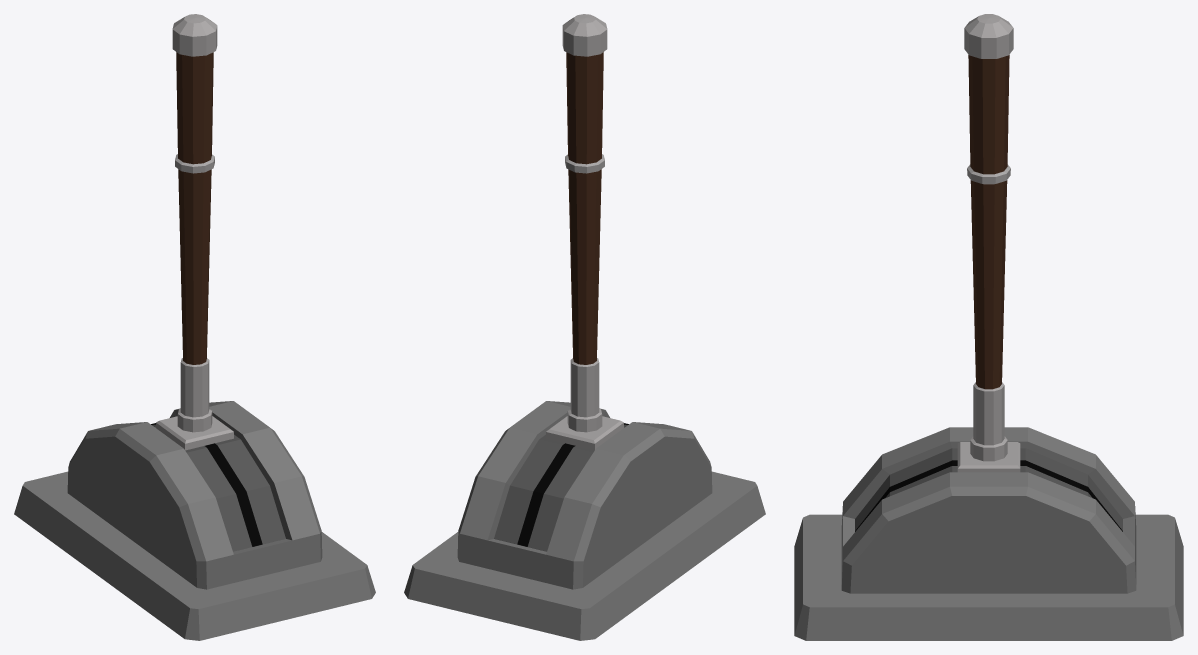
File: StoneFloorLever_3.fbx
3 views of the same model, side by side, from view 1: azimuth 30°, elevation 25°; view 2: azimuth 150°, elevation 25°; view 3: azimuth 270°, elevation 25° (orthographic). The views are drawn at different scales.
Visible parts, largest first — view 1: StoneFloorLever_3_Casing, StoneFloorLever_3_Handle; view 2: StoneFloorLever_3_Casing, StoneFloorLever_3_Handle; view 3: StoneFloorLever_3_Casing, StoneFloorLever_3_Handle.
Boxes of the visible parts, <box> form: StoneFloorLever_3_Casing: <box>14,401,375,640</box>; StoneFloorLever_3_Handle: <box>156,14,233,450</box>; StoneFloorLever_3_Casing: <box>404,401,765,640</box>; StoneFloorLever_3_Handle: <box>546,14,623,450</box>; StoneFloorLever_3_Casing: <box>794,427,1183,640</box>; StoneFloorLever_3_Handle: <box>957,14,1020,472</box>.
Bounding box in the file's own units: 24.51 × 65.58 × 40.37.
